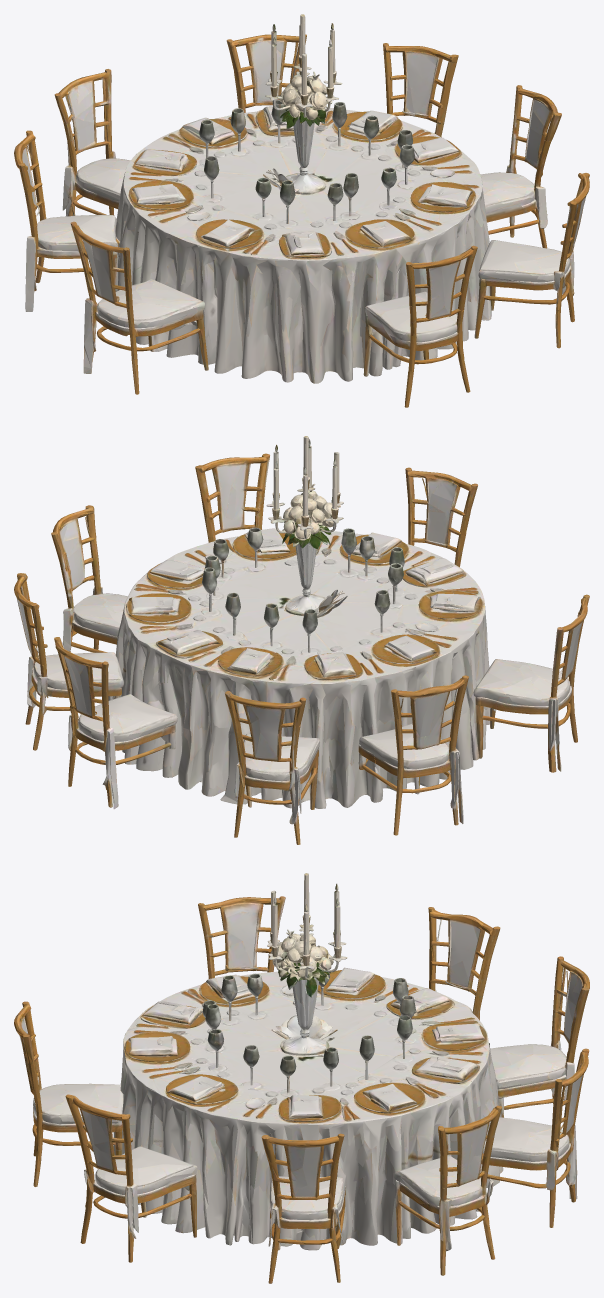
Rendered from patronTable.glb.
3 renders of one model, top to bottom at view 1: azimuth 30°, elevation 25°; view 2: azimuth 150°, elevation 25°; view 3: azimuth 270°, elevation 25°, orthographic. The views are drawn at different scales.
Bounding box in the file's own units: 1.9 × 1.07 × 1.88.
Materials: 1 (1 with a texture image).
